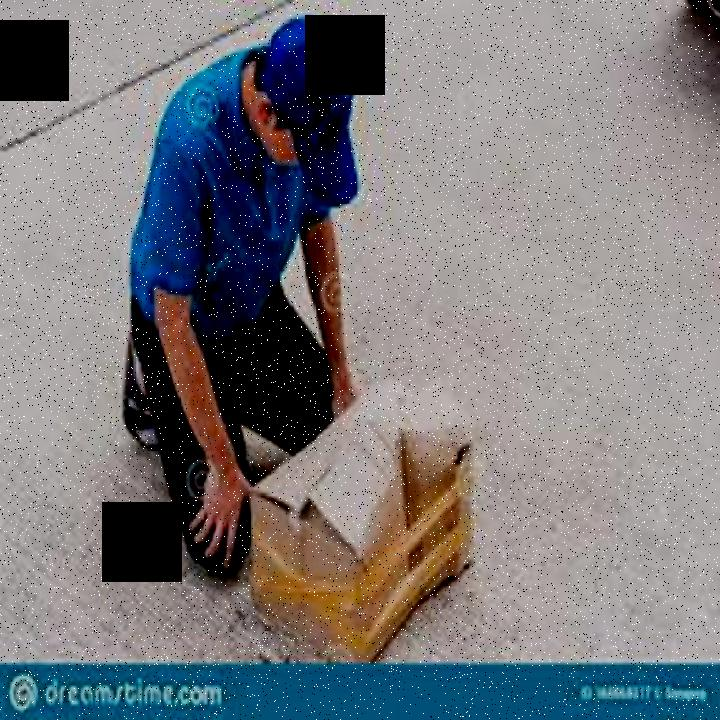box: (237, 374, 493, 667)
